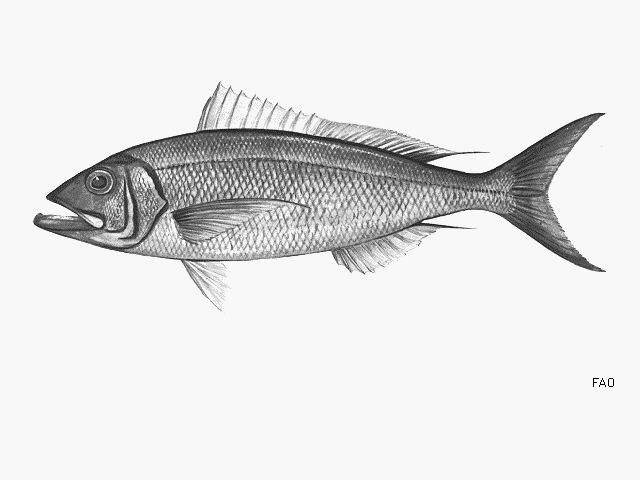fish: (33, 82, 611, 310)
